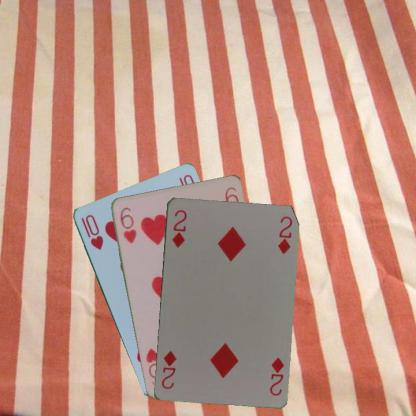10h: (78, 211, 105, 252)
2d: (168, 207, 187, 248), (267, 354, 285, 397)
6h: (116, 204, 138, 244)
